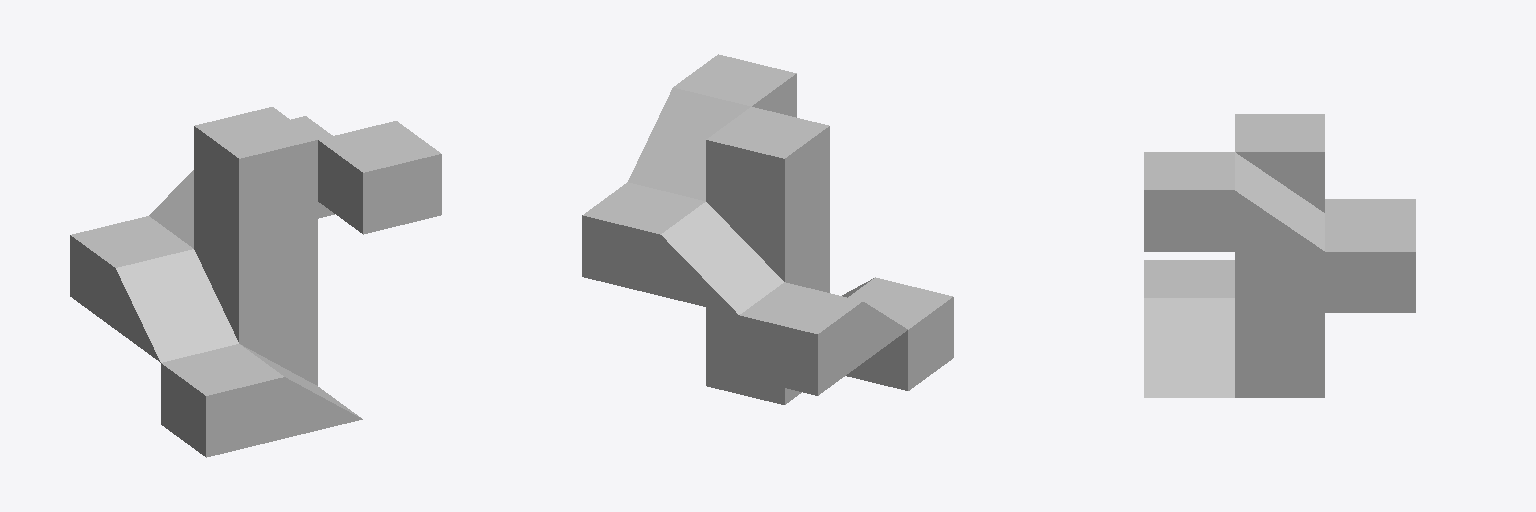
File: steps2.obj
3 views of the same model, side by side, from view 1: azimuth 30°, elevation 25°; view 2: azimuth 150°, elevation 25°; view 3: azimuth 270°, elevation 25° (orthographic).
Visible parts, largest first — view 1: 柱子, 立方体1, 立方体4, 斜面2, 立方体2, 斜面1, 斜面3, 立方体3; view 2: 柱子, 立方体2, 斜面3, 立方体3, 立方体1, 斜面4, 立方体4, 斜面2; view 3: 柱子, 斜面1, 立方体4, 立方体3, 斜面4, 立方体1, 立方体2.
Part boxes in pixels (bbox=[...]): 柱子: bbox=[194, 107, 317, 385]; 立方体1: bbox=[161, 344, 284, 457]; 立方体4: bbox=[318, 121, 441, 234]; 斜面2: bbox=[116, 249, 238, 362]; 立方体2: bbox=[70, 216, 192, 329]; 斜面1: bbox=[240, 344, 362, 437]; 斜面3: bbox=[149, 170, 193, 248]; 立方体3: bbox=[291, 116, 334, 218]; 柱子: bbox=[706, 107, 829, 404]; 立方体2: bbox=[739, 282, 862, 395]; 斜面3: bbox=[661, 202, 783, 314]; 立方体3: bbox=[582, 182, 705, 295]; 立方体1: bbox=[846, 277, 953, 390]; 斜面4: bbox=[628, 88, 750, 200]; 立方体4: bbox=[673, 54, 796, 117]; 斜面2: bbox=[863, 302, 907, 362]; 柱子: bbox=[1235, 114, 1324, 397]; 斜面1: bbox=[1144, 298, 1234, 397]; 立方体4: bbox=[1144, 152, 1234, 251]; 立方体3: bbox=[1325, 214, 1415, 312]; 斜面4: bbox=[1235, 152, 1324, 251]; 立方体1: bbox=[1144, 260, 1234, 297]; 立方体2: bbox=[1325, 199, 1415, 213].
Bounding box in the file's own units: 300 × 300 × 300.